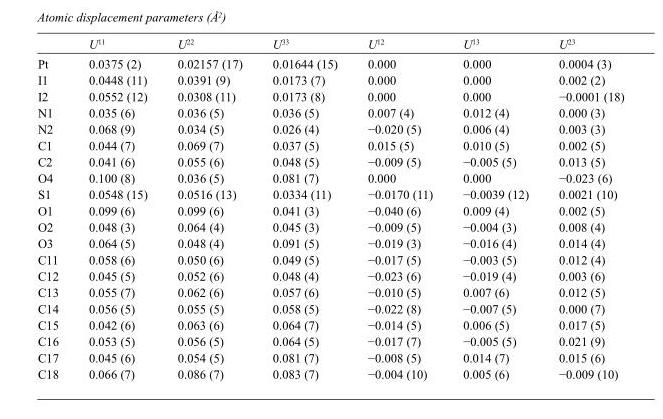table: (36, 37, 623, 380)
table column: (351, 37, 447, 380), (447, 37, 543, 380), (161, 37, 256, 380), (256, 37, 351, 380), (72, 37, 161, 380), (543, 37, 623, 380), (36, 37, 72, 380)
table column header: (36, 37, 623, 53)
table row: (36, 53, 623, 71), (36, 71, 623, 88), (36, 120, 623, 137), (36, 169, 623, 186), (36, 218, 623, 235), (36, 267, 623, 284), (36, 316, 623, 333), (36, 37, 623, 53), (36, 88, 623, 104), (36, 104, 623, 120), (36, 137, 623, 153), (36, 153, 623, 169), (36, 186, 623, 202), (36, 202, 623, 218), (36, 235, 623, 251), (36, 251, 623, 267), (36, 284, 623, 300), (36, 300, 623, 316), (36, 333, 623, 349), (36, 349, 623, 365), (36, 365, 623, 380)
